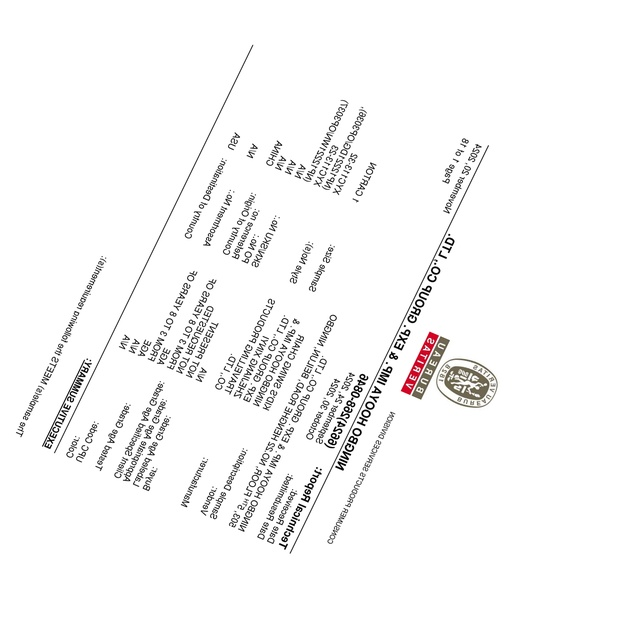bureau_veritas: (395, 327, 503, 412)
